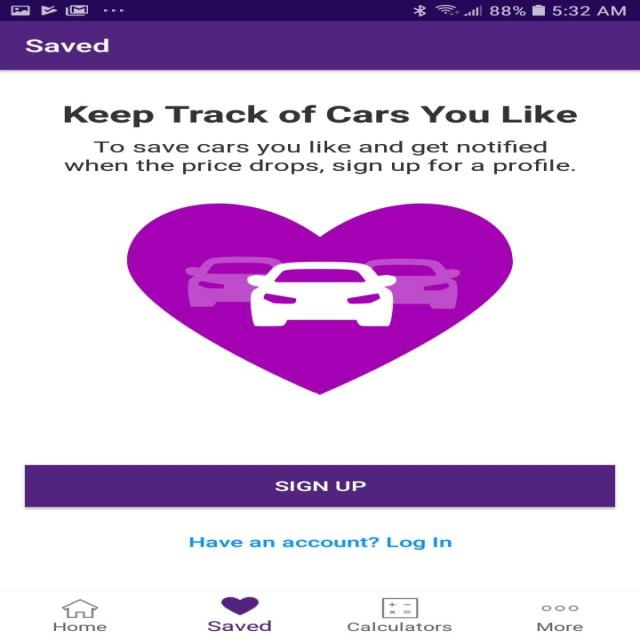Icon: (220, 596, 258, 615), (61, 598, 99, 617)
Image: (125, 202, 513, 395), (381, 597, 418, 618)
Text: (64, 140, 575, 175), (64, 104, 577, 128), (189, 536, 452, 550), (26, 38, 110, 53), (346, 621, 452, 631), (207, 620, 271, 631), (53, 621, 107, 631), (536, 621, 582, 631)
TextButton: (24, 464, 614, 506)
